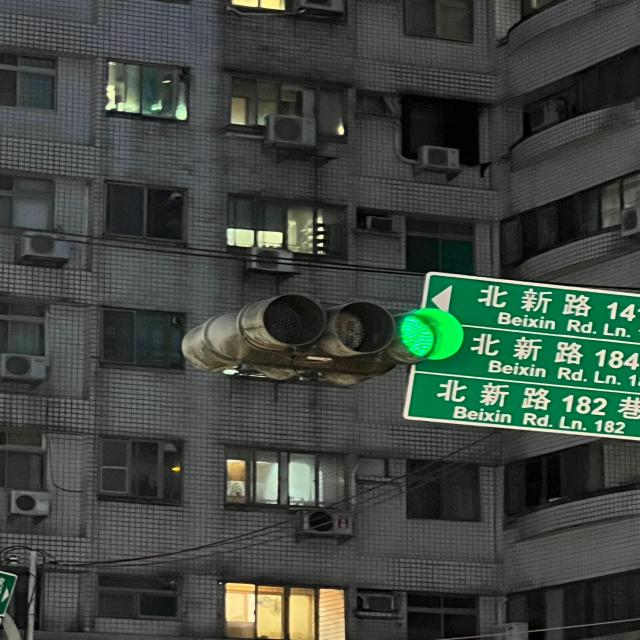green light: (236, 295, 463, 360)
